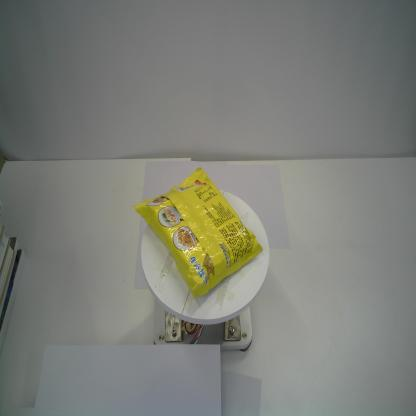Instant Noodles: (133, 165, 263, 300)
